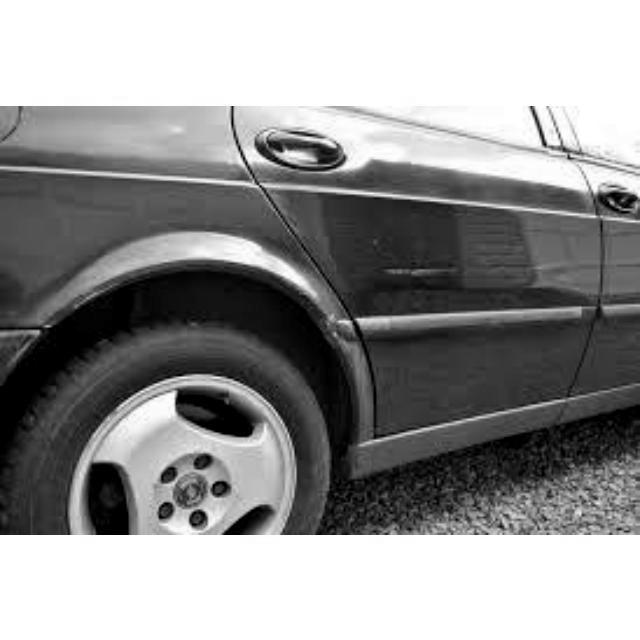quaterpanel-dent: (127, 206, 372, 399)
